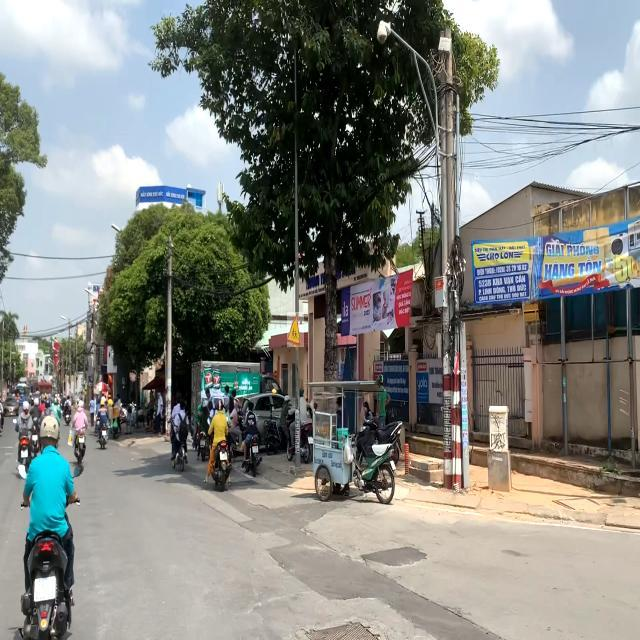W-225: (287, 312, 304, 347)
